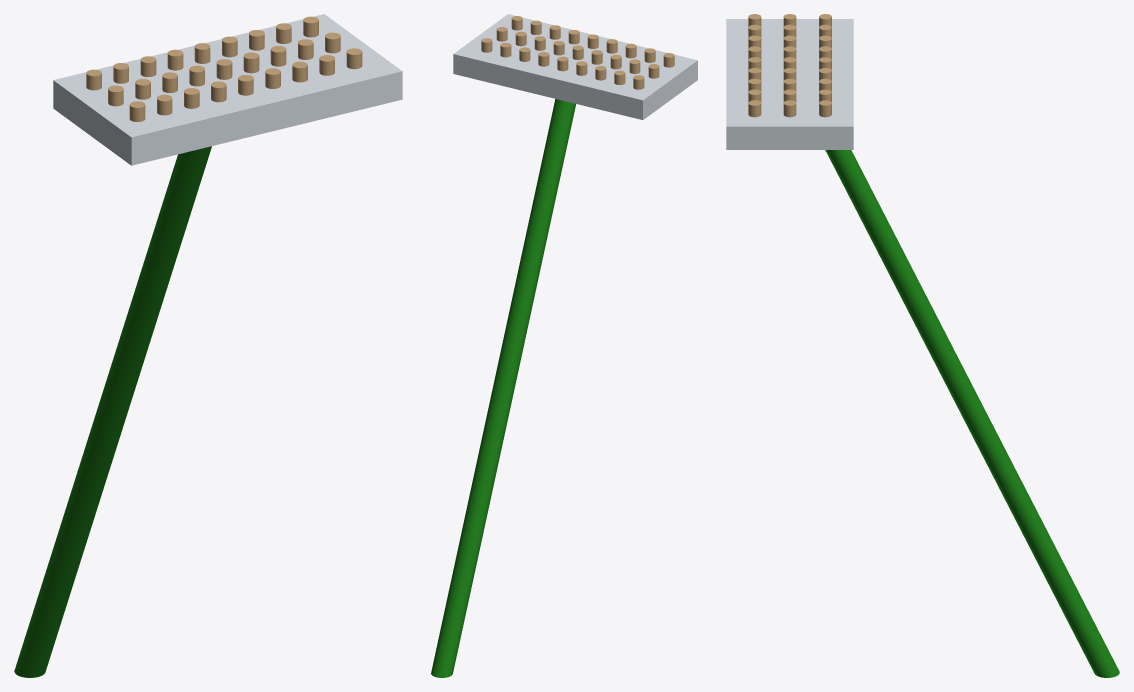
File: batonVert.dae
The picture shows the model from 3 angles, left to right: view 1: azimuth 30°, elevation 25°; view 2: azimuth 150°, elevation 25°; view 3: azimuth 270°, elevation 25°; orthographic projection. The views are drawn at different scales.
Parts seen in each view (by area): view 1: Cube, Cylinder_027; view 2: Cylinder_027, Cube; view 3: Cylinder_027, Cube.
Boxes of the visible parts, x1=… form: Cube: x1=53, y1=14, x2=402, y2=165; Cylinder_027: x1=14, y1=146, x2=211, y2=677; Cylinder_027: x1=431, y1=99, x2=575, y2=677; Cube: x1=453, y1=14, x2=697, y2=119; Cylinder_027: x1=825, y1=150, x2=1119, y2=677; Cube: x1=726, y1=19, x2=853, y2=149.
Size of the model in its own units: 2 by 3.08 by 5.3.
